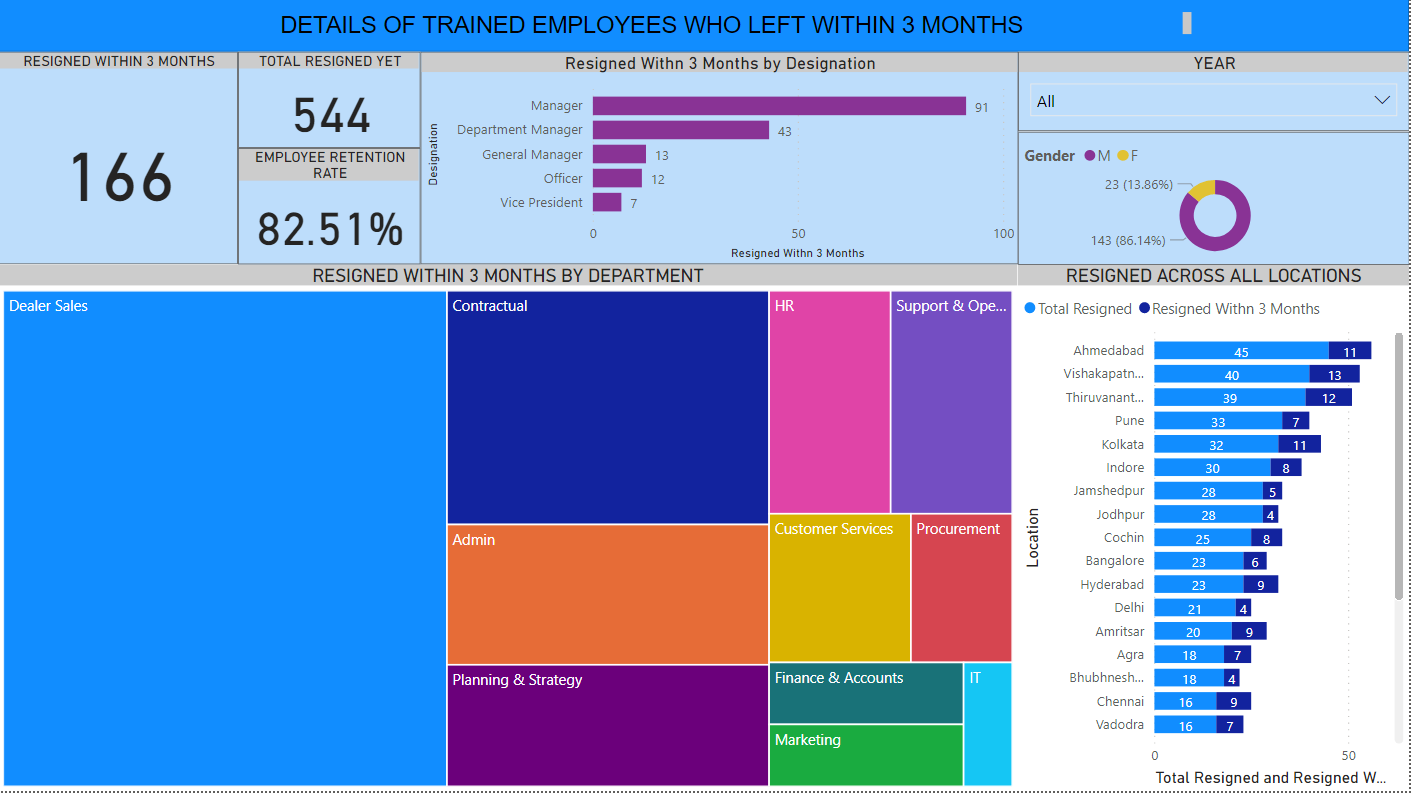

The dashboard page shown, as its layout file describes it:
{"tool":"powerbi","page":{"name":"Page 1","canvas":[1280,720],"ordinal":0},"visuals":[{"type":"barChart","title":"RESIGNED ACROSS ALL LOCATIONS","fields":{"Category":["EmpData.Location"],"Y":["Training.Total Resigned","Training.Resigned Withn 3 Months"]},"box":[925.1,242,354.9,478.3],"z":0},{"type":"card","title":"RESIGNED WITHIN 3 MONTHS","fields":{"Values":["Training.Resigned Withn 3 Months"]},"box":[0,48.9,217.6,193.2],"z":1000},{"type":"donutChart","fields":{"Category":["EmpData.Gender"],"Y":["Training.Resigned Withn 3 Months"]},"box":[925.1,121,354.9,121],"z":2000},{"type":"treemap","title":"RESIGNED WITHIN 3 MONTHS BY DEPARTMENT","fields":{"Group":["EmpData.Dept"],"Values":["Training.Resigned Withn 3 Months"]},"box":[0,242,925.1,478.3],"z":3000},{"type":"barChart","fields":{"Category":["EmpData.Designation"],"Y":["Training.Resigned Withn 3 Months"]},"box":[382.8,48.9,542.3,193.2],"z":4000},{"type":"shape","box":[0,0,1280,48.9],"z":5000},{"type":"textbox","box":[107.1,8.1,980.9,32.6],"z":6000},{"type":"card","title":"TOTAL RESIGNED YET","fields":{"Values":["Training.Total Resigned"]},"box":[217.6,48.9,165.2,87.3],"z":7000},{"type":"card","title":"EMPLOYEE RETENTION RATE","fields":{"Values":["Training.Retention Rate"]},"box":[217.6,136.1,165.2,105.9],"z":8000},{"type":"slicer","title":"YEAR","fields":{"Values":["EmpData.Year"]},"box":[925.1,48.9,354.9,72.1],"z":9000}]}

Visuals, with their boxes in screenshot pixels (x1, y1, x2, y2), scaled from the page's 1280x720 canvas onto the 1413x797 screenshot:
"RESIGNED ACROSS ALL LOCATIONS" barChart: (1021, 268, 1412, 796)
"RESIGNED WITHIN 3 MONTHS" card: (0, 54, 240, 268)
donutChart - EmpData.Gender x Training.Resigned Withn 3 Months: (1021, 134, 1412, 268)
"RESIGNED WITHIN 3 MONTHS BY DEPARTMENT" treemap: (0, 268, 1021, 796)
barChart - EmpData.Designation x Training.Resigned Withn 3 Months: (423, 54, 1021, 268)
shape: (0, 0, 1412, 54)
textbox: (118, 9, 1201, 45)
"TOTAL RESIGNED YET" card: (240, 54, 423, 151)
"EMPLOYEE RETENTION RATE" card: (240, 151, 423, 268)
"YEAR" slicer: (1021, 54, 1412, 134)
